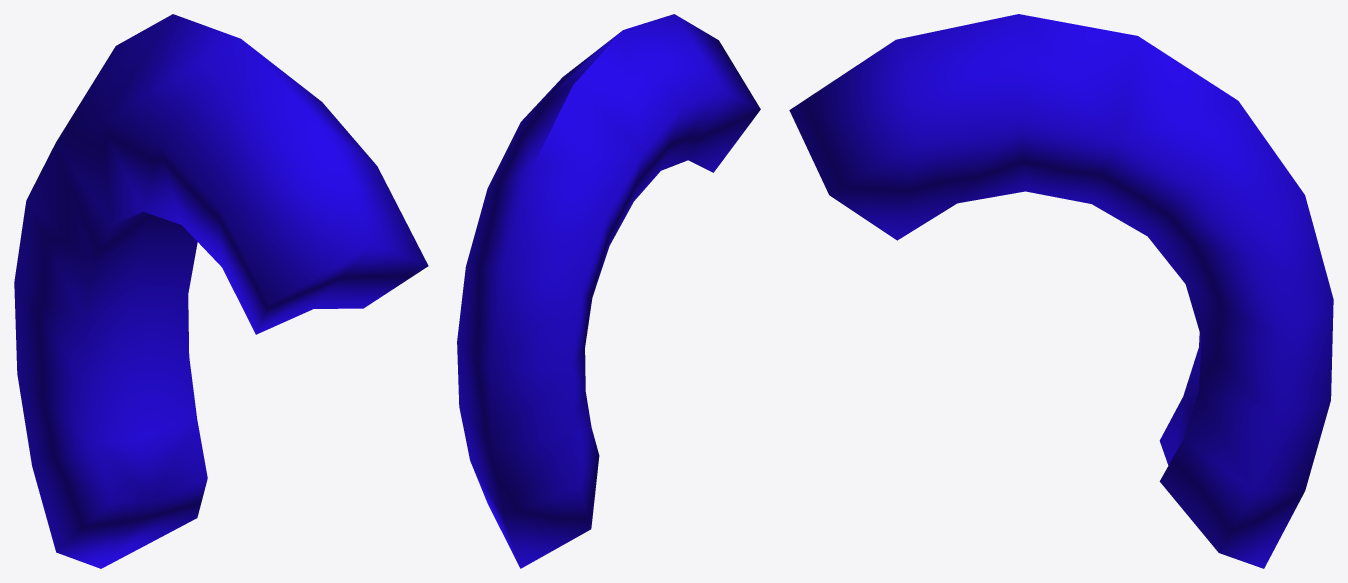
Rendered from CrustPunk.fbx.
3 renders of one model, left to right at view 1: azimuth 30°, elevation 25°; view 2: azimuth 150°, elevation 25°; view 3: azimuth 270°, elevation 25°, orthographic. The views are drawn at different scales.
Parts seen in each view (by area): view 1: CrustPunk; view 2: CrustPunk; view 3: CrustPunk.
Boxes of the visible parts, box(x1,y1,x2,y2) form: CrustPunk: box(14, 14, 428, 568); CrustPunk: box(457, 14, 760, 568); CrustPunk: box(789, 14, 1333, 568).
Bounding box in the file's own units: 26.96 × 97.92 × 87.03.
